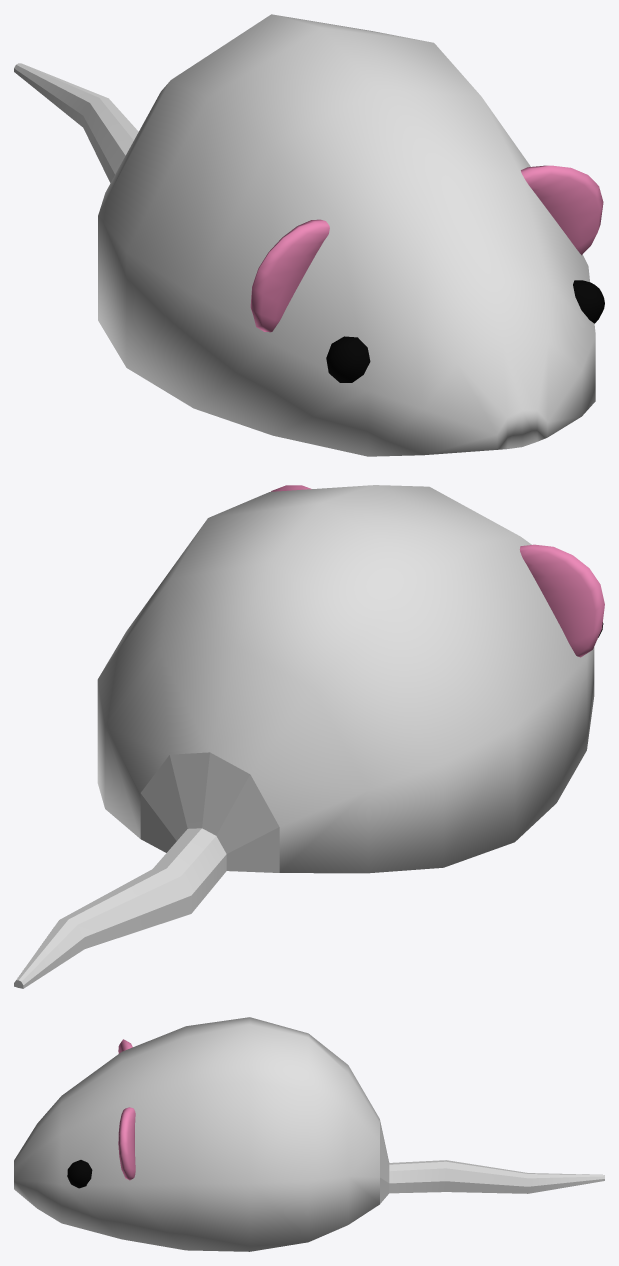
The model's file is WinObj_Mouse.fbx.
3 renders of one model, top to bottom at view 1: azimuth 30°, elevation 25°; view 2: azimuth 150°, elevation 25°; view 3: azimuth 270°, elevation 25°, orthographic. The views are drawn at different scales.
Parts seen in each view (by area): view 1: pSphere11; view 2: pSphere11; view 3: pSphere11.
Part boxes in pixels (box(x1,y1,x2,y2)): pSphere11: box(14, 14, 604, 456); pSphere11: box(14, 485, 604, 988); pSphere11: box(14, 1017, 604, 1251).
Bounding box in the file's own units: 0.213 × 0.1546 × 0.477.
